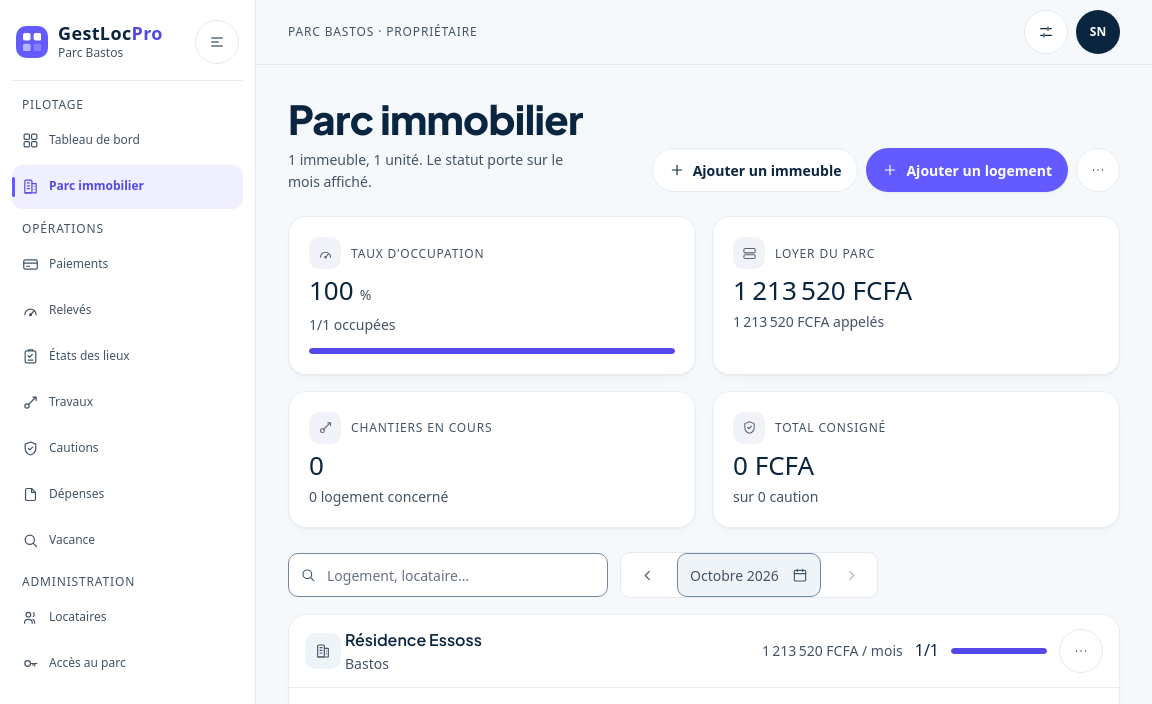
it: corriger le parc › n’appelle rien quand rien n’a changé
Click the button named "Autres actions" at (1098, 170), box [1076, 148, 1120, 192]
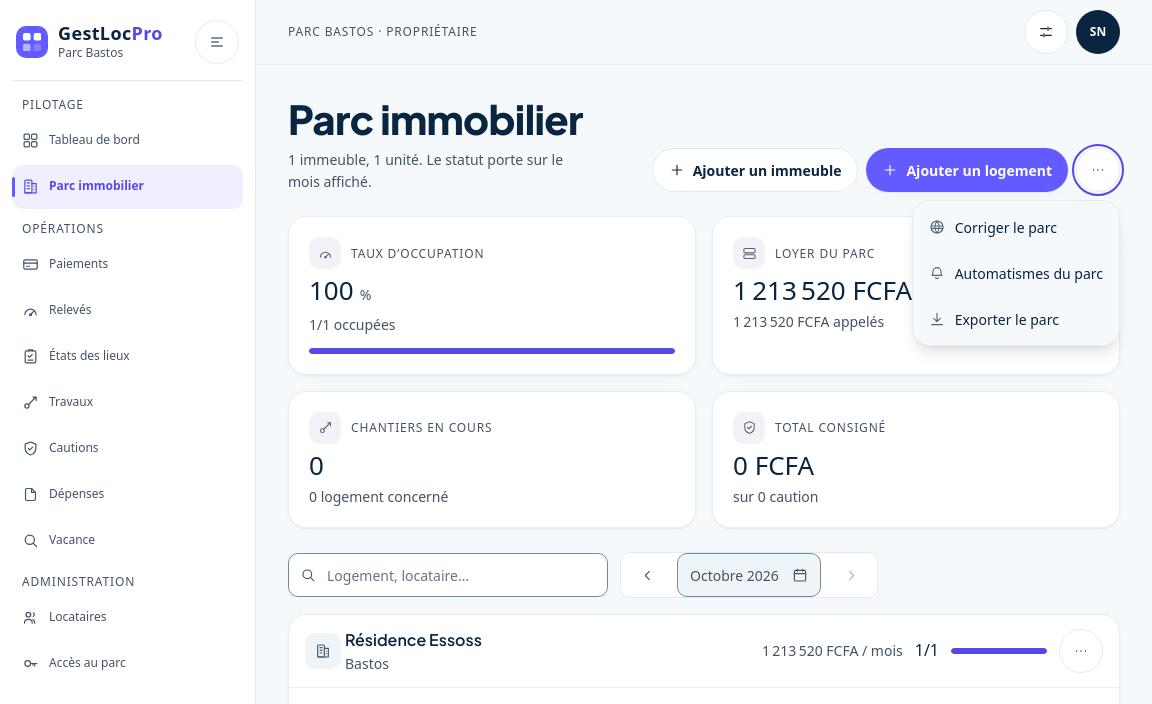
Click the menu item "Corriger le parc" at (1016, 227), box [917, 205, 1115, 249]
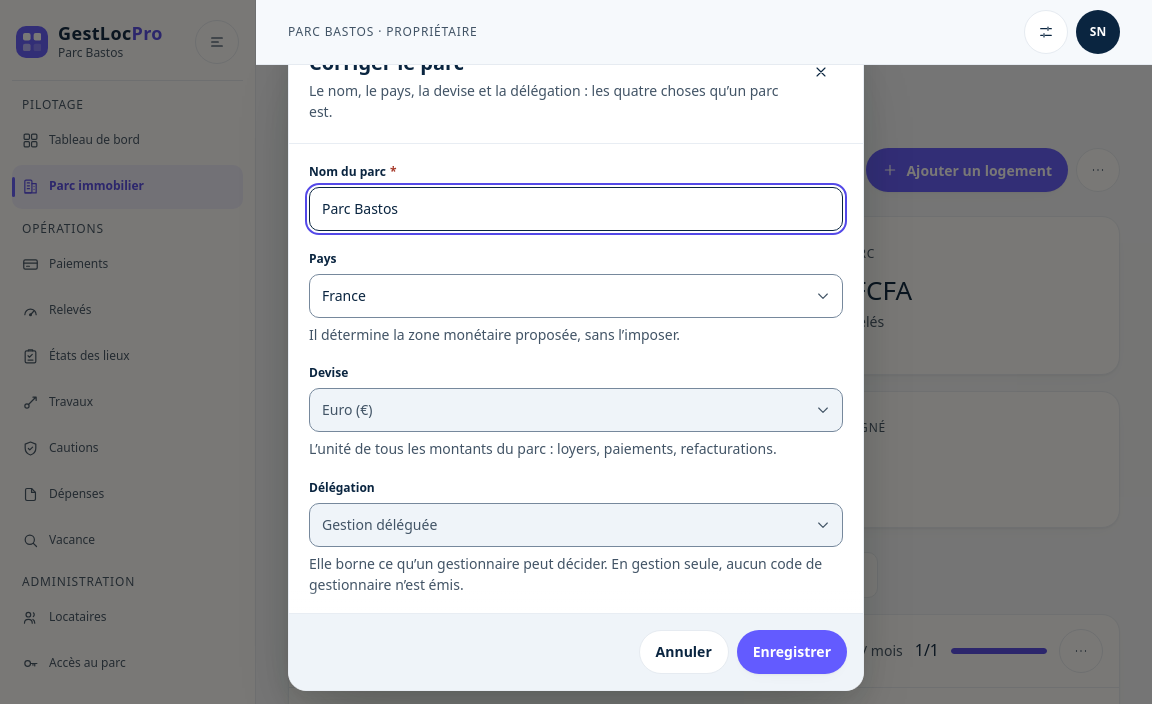
Click the button "Enregistrer" at (792, 652), box [737, 630, 847, 674]
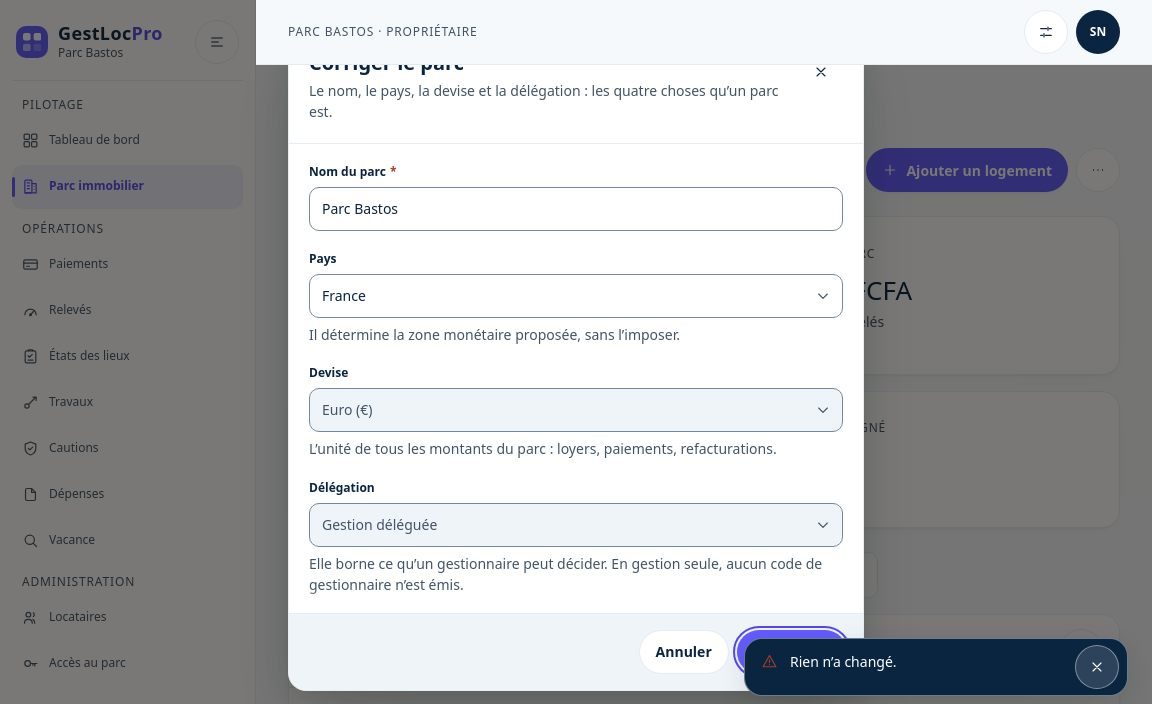
Check: the text "Rien n’a changé." is shown, box [790, 652, 896, 671]
